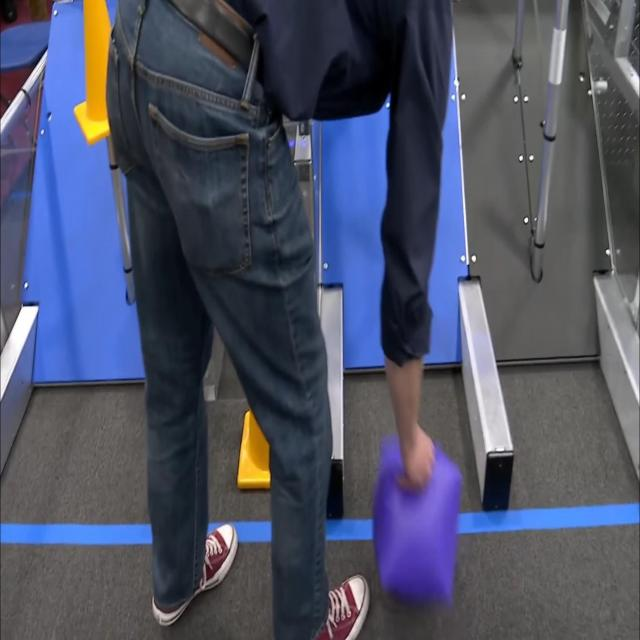frc_cone: (72, 0, 111, 146), (237, 410, 271, 492)
frc_cube: (374, 434, 461, 597)
